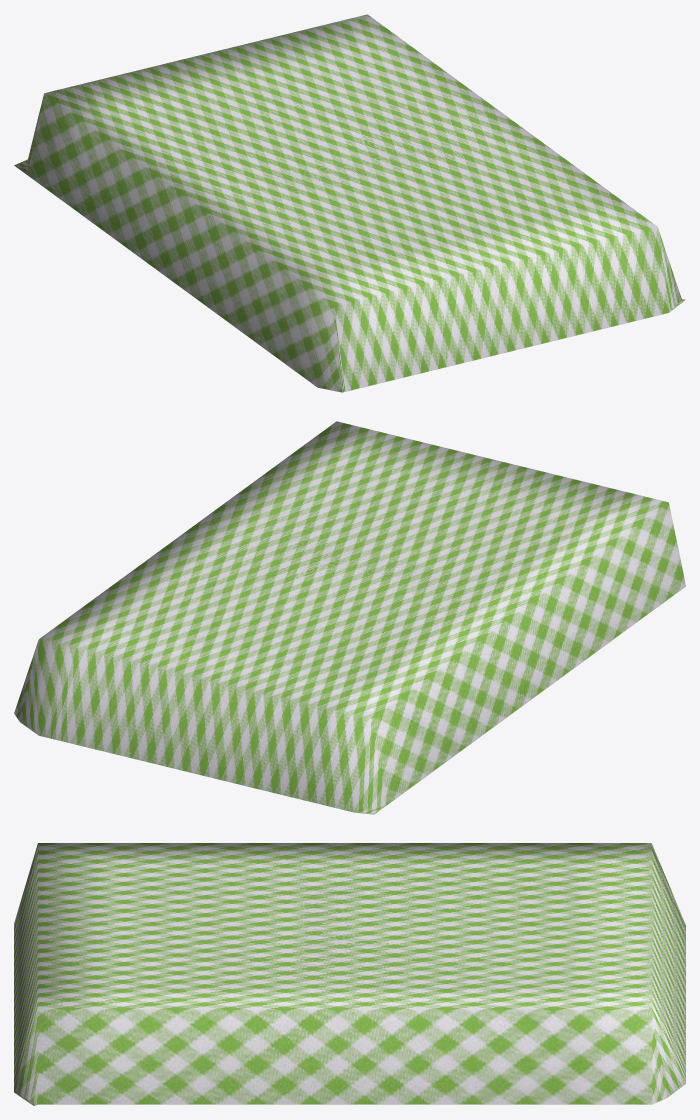
File: mantel.obj
3 views of the same model, one above another, from view 1: azimuth 30°, elevation 25°; view 2: azimuth 150°, elevation 25°; view 3: azimuth 270°, elevation 25° (orthographic). The views are drawn at different scales.
Visible parts, largest first — view 1: pPlane1; view 2: pPlane1; view 3: pPlane1.
Part boxes in pixels (x1,y1,x2,y2): pPlane1: (14,14,685,392); pPlane1: (14,421,685,814); pPlane1: (14,843,685,1105).
Size of the model in its own units: 5.89 by 1.2 by 8.85.
Materials: 1 (1 with a texture image).
